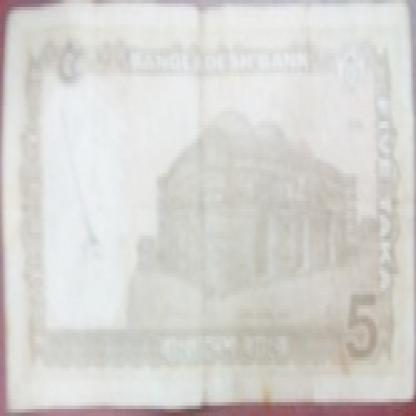Five Taka: (374, 83, 398, 274), (343, 278, 384, 382), (50, 24, 90, 97)
